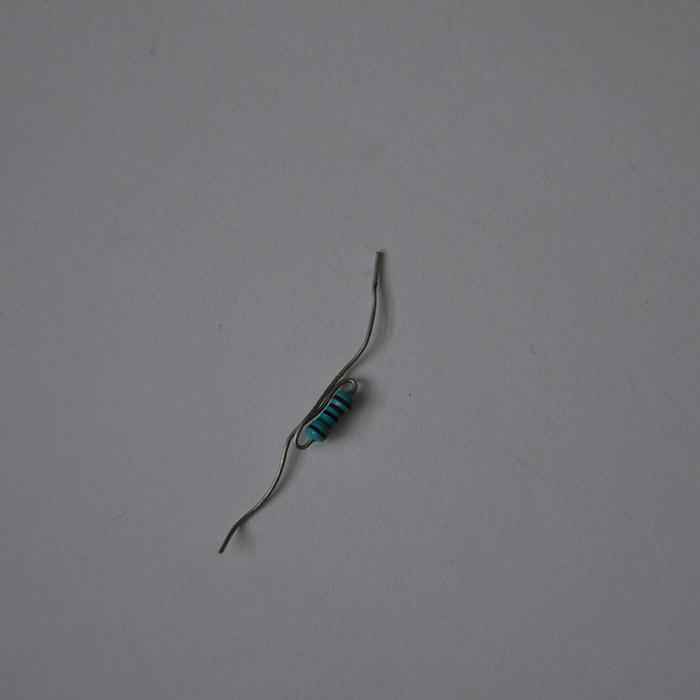resistor: (304, 384, 356, 443)
